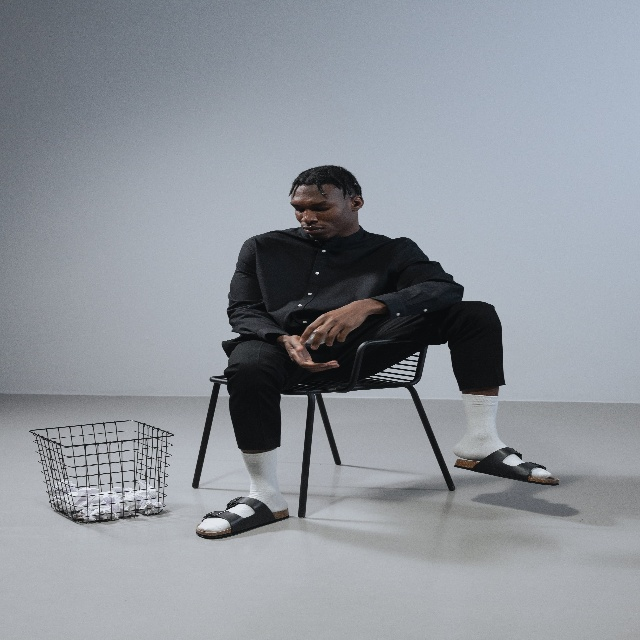Sin_guantes: (299, 301, 368, 350), (285, 334, 341, 374)
